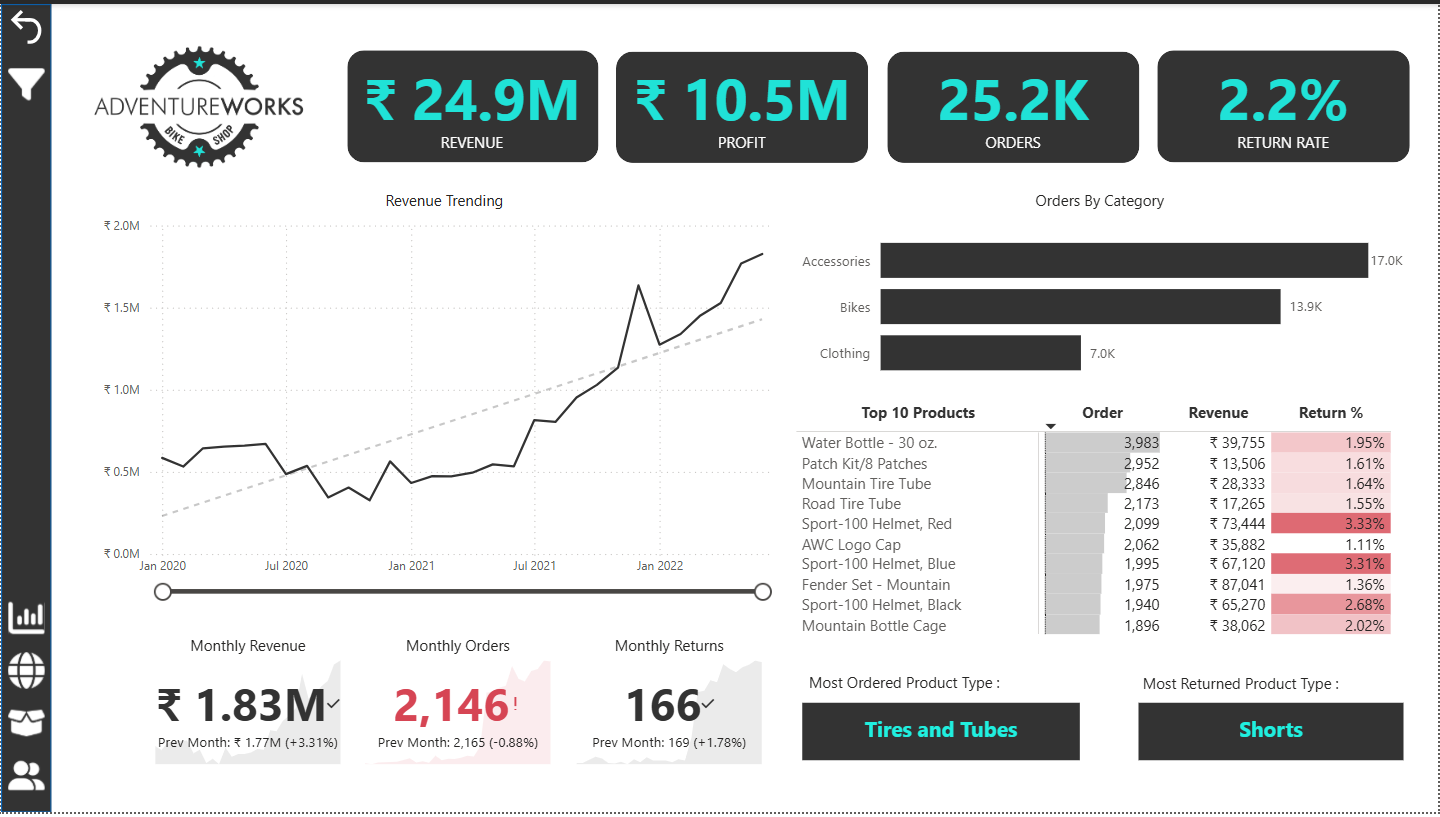

Layout of this report page (visuals, bound fields, positions):
{"tool":"powerbi","page":{"name":"Exec Dashboard","canvas":[1280,720],"ordinal":0},"visuals":[{"type":"card","fields":{"Values":["Measure Table.Total Revenue"]},"box":[300.1,15.9,238.1,150],"z":0,"group":"g2"},{"type":"image","title":"AW Logo","box":[57.5,25,237.5,133.8],"z":0},{"type":"group","id":"g1","title":"KPI Background","box":[307.5,41.3,946.2,100.8],"z":0,"group":"g3"},{"type":"shape","box":[307.5,41.3,223.8,100],"z":0,"group":"g1"},{"type":"actionButton","box":[0,526.4,45.4,40.5],"z":0,"group":"g4"},{"type":"shape","title":"Left Nav Background","box":[0,0,45,720],"z":1000},{"type":"group","id":"g2","title":"KPI Values","box":[300.1,15.9,960.9,150],"z":1000,"group":"g3"},{"type":"card","fields":{"Values":["Measure Table.Total Profit"]},"box":[541,15.9,238.1,150],"z":1000,"group":"g2"},{"type":"shape","box":[547.4,42.7,224.5,99.4],"z":1000,"group":"g1"},{"type":"actionButton","box":[0,573,45.4,40.5],"z":1000,"group":"g4"},{"type":"group","id":"g3","title":"KPIs","box":[300.1,15.9,960.9,150],"z":2000},{"type":"card","fields":{"Values":["Measure Table.Total Order"]},"box":[782,15.9,238.1,150],"z":2000,"group":"g2"},{"type":"shape","box":[788.1,42.7,224.5,99.4],"z":2000,"group":"g1"},{"type":"actionButton","box":[0,619.7,45.4,40.5],"z":2000,"group":"g4"},{"type":"card","fields":{"Values":["Measure Table.Retun Rate"]},"box":[1022.9,15.9,238.1,150],"z":3000,"group":"g2"},{"type":"shape","box":[1028.7,41.3,225,100],"z":3000,"group":"g1"},{"type":"lineChart","title":"Revenue Trending","fields":{"Y":["Measure Table.Total Revenue"],"Category":["Calendar Lookup.Year","Calendar Lookup.Start of Quarter","Calendar Lookup.Start of Month"]},"box":[85.9,165.6,618.4,368.1],"z":3000},{"type":"actionButton","box":[0,666.3,45.4,40.5],"z":3000,"group":"g4"},{"type":"kpi","title":"Monthly Revenue","fields":{"Indicator":["Measure Table.Total Revenue"],"TrendLine":["Calendar Lookup.Start of Month"],"Goal":["Measure Table.Previous Month Revenue"]},"box":[132.5,562.5,175,120],"z":4000},{"type":"kpi","title":"Monthly Orders","fields":{"TrendLine":["Calendar Lookup.Start of Month"],"Indicator":["Measure Table.Total Order"],"Goal":["Measure Table.Previous Month Orders"]},"box":[320,562.5,175,120],"z":5000},{"type":"kpi","title":"Monthly Returns","fields":{"TrendLine":["Calendar Lookup.Start of Month"],"Indicator":["Measure Table.Total Returned"],"Goal":["Measure Table.Previous Month Returns"]},"box":[507.5,562.5,175,120],"z":6000},{"type":"clusteredBarChart","title":"Orders By Category","fields":{"Category":["Product Categories Lookup.CategoryName"],"Y":["Measure Table.Total Order"]},"box":[703.8,166.2,550,183.8],"z":7000},{"type":"pivotTable","fields":{"Rows":["Product Lookup.ProductName"],"Values":["Measure Table.Total Order","Measure Table.Total Revenue","Measure Table.Return Rate"]},"box":[703.8,350,550,227.5],"z":8000},{"type":"card","fields":{"Values":["Min(Product Subcategories Lookup.SubcategoryName)"]},"box":[713.8,622.5,247.5,51.2],"z":9000},{"type":"textbox","box":[714.1,590.2,186.5,31.9],"z":10000},{"type":"card","fields":{"Values":["Min(Product Subcategories Lookup.SubcategoryName)"]},"box":[1012.5,622.5,236.2,51.2],"z":11000},{"type":"textbox","box":[1012.3,591.4,193.9,31.9],"z":12000},{"type":"actionButton","box":[0,0,45.4,40.5],"z":13000},{"type":"group","id":"g4","title":"Navigation Buttons","box":[0,526.4,45.4,180.4],"z":14000},{"type":"actionButton","box":[0,51.5,45.4,40.5],"z":15000}]}

Visuals, with their boxes on the page's 1280x720 design canvas (x1, y1, x2, y2). These are canvas units, not pixel positions in the 1440x817 screenshot, which may show the page scaled, cropped or inside an application window:
card - Measure Table.Total Revenue: (300,16,538,166)
"AW Logo" image: (58,25,295,159)
"KPI Background" group: (308,41,1254,142)
shape: (308,41,531,141)
actionButton: (0,526,45,567)
"Left Nav Background" shape: (0,0,45,720)
"KPI Values" group: (300,16,1261,166)
card - Measure Table.Total Profit: (541,16,779,166)
shape: (547,43,772,142)
actionButton: (0,573,45,614)
"KPIs" group: (300,16,1261,166)
card - Measure Table.Total Order: (782,16,1020,166)
shape: (788,43,1013,142)
actionButton: (0,620,45,660)
card - Measure Table.Retun Rate: (1023,16,1261,166)
shape: (1029,41,1254,141)
"Revenue Trending" lineChart: (86,166,704,534)
actionButton: (0,666,45,707)
"Monthly Revenue" kpi: (132,562,308,682)
"Monthly Orders" kpi: (320,562,495,682)
"Monthly Returns" kpi: (508,562,682,682)
"Orders By Category" clusteredBarChart: (704,166,1254,350)
pivotTable - Product Lookup.ProductName x Measure Table.Total Order: (704,350,1254,578)
card - Min(Product Subcategories Lookup.SubcategoryName): (714,622,961,674)
textbox: (714,590,901,622)
card - Min(Product Subcategories Lookup.SubcategoryName): (1012,622,1249,674)
textbox: (1012,591,1206,623)
actionButton: (0,0,45,40)
"Navigation Buttons" group: (0,526,45,707)
actionButton: (0,52,45,92)
